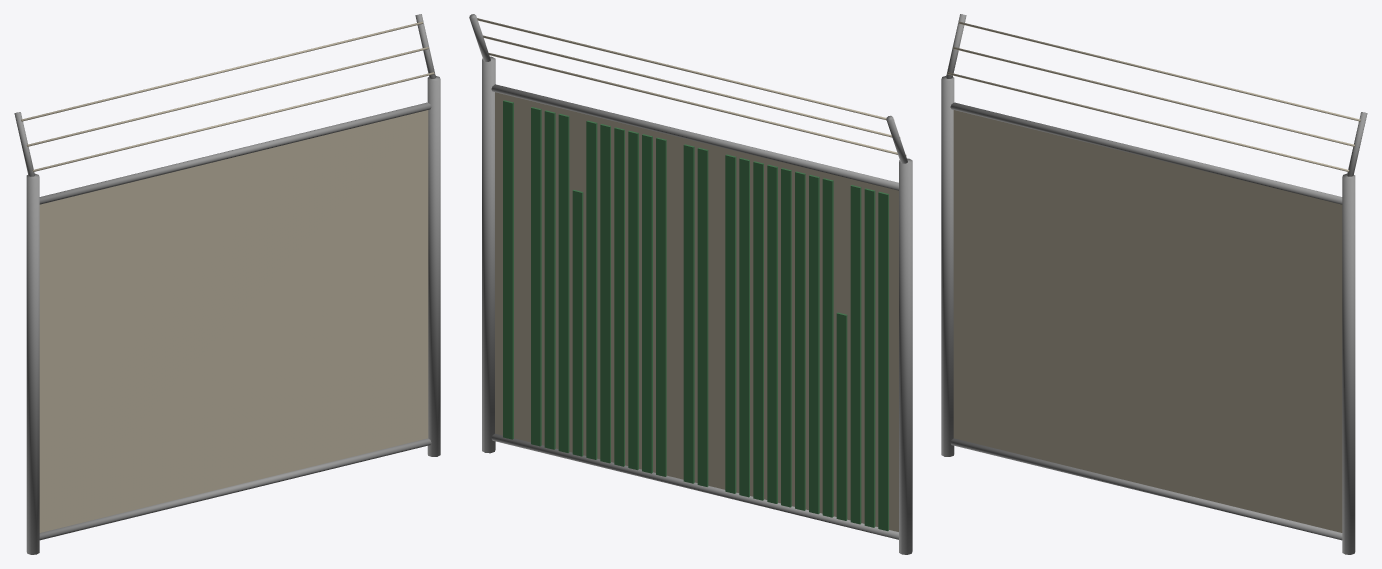
The model's file is hood_fence_slat.glb.
3 renders of one model, left to right at view 1: azimuth 30°, elevation 25°; view 2: azimuth 150°, elevation 25°; view 3: azimuth 330°, elevation 25°, orthographic. The views are drawn at different scales.
Visible parts, largest first — view 1: hood_fence_slat, arm, barb; view 2: slat, hood_fence_slat, arm, barb; view 3: hood_fence_slat, arm, barb.
Part boxes in pixels (box(x1,y1,x2,y2)): hood_fence_slat: box(39, 110, 428, 532); arm: box(14, 14, 440, 554); barb: box(21, 21, 434, 171); slat: box(503, 100, 888, 531); hood_fence_slat: box(495, 92, 898, 531); arm: box(469, 14, 912, 554); barb: box(477, 18, 906, 155); hood_fence_slat: box(953, 110, 1342, 532); arm: box(941, 14, 1367, 554); barb: box(947, 21, 1360, 171).
Size of the model in its own units: 2.47 by 2.46 by 0.2111.
